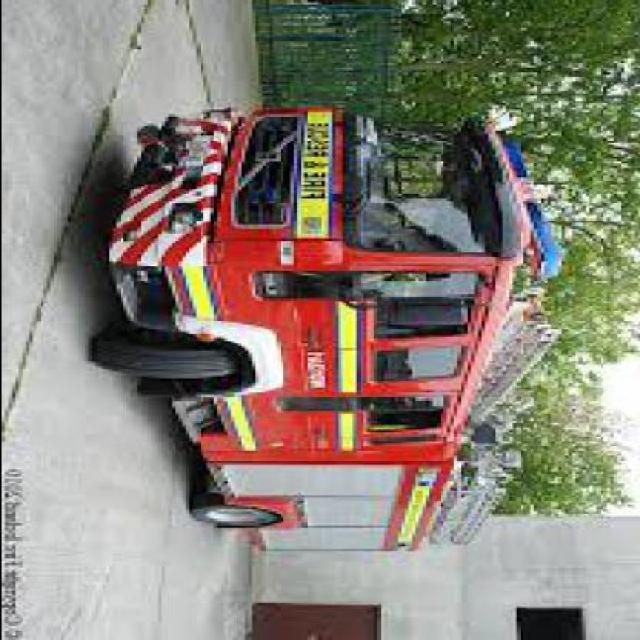Fire Truck: (70, 82, 612, 568)
